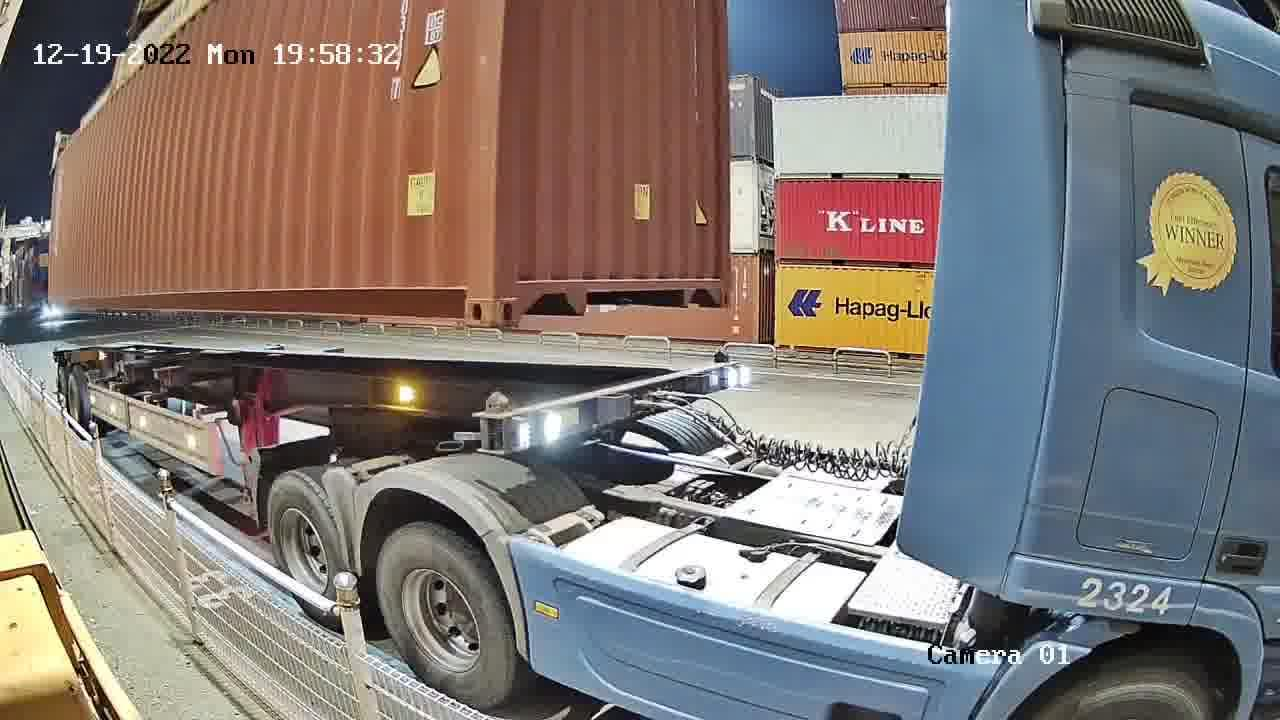Chassis: (474, 363, 740, 454)
Cone: (475, 390, 508, 453), (710, 345, 731, 365)
Hole_L: (491, 258, 540, 326)
Hole_R: (435, 252, 492, 326), (696, 260, 734, 307)
Tire: (376, 527, 511, 704), (269, 474, 344, 600)
